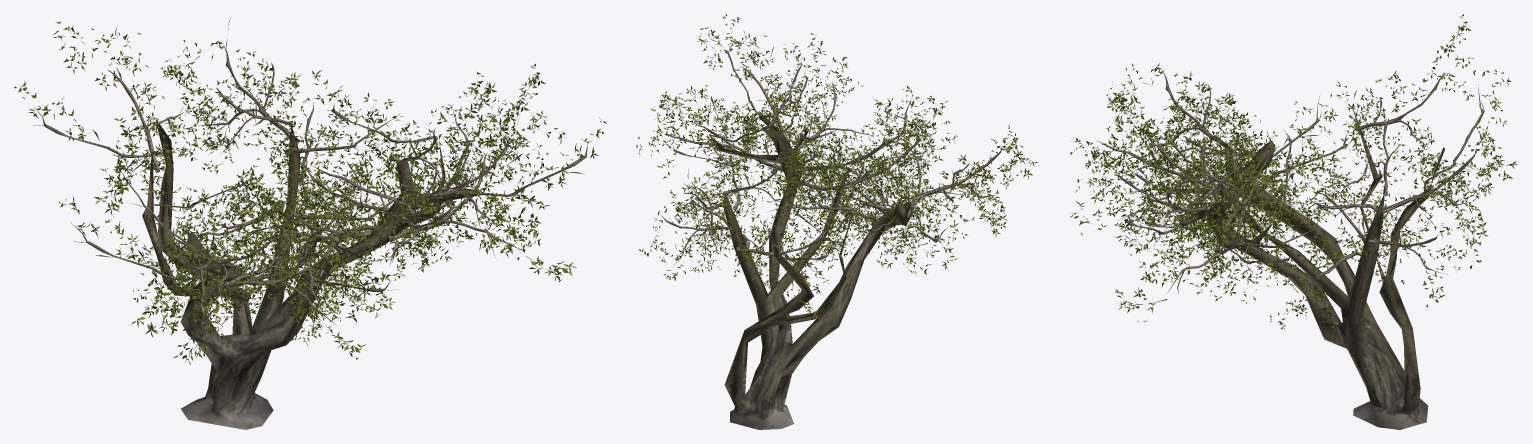
File: tree_lod.glb
3 views of the same model, side by side, from view 1: azimuth 30°, elevation 25°; view 2: azimuth 150°, elevation 25°; view 3: azimuth 270°, elevation 25° (orthographic). The views are drawn at different scales.
Visible parts, largest first — view 1: island_tree_02_LOD0; view 2: island_tree_02_LOD0; view 3: island_tree_02_LOD0.
Part boxes in pixels (left/top/right/bottom): island_tree_02_LOD0: left=14, top=17, right=607, bottom=429; island_tree_02_LOD0: left=636, top=14, right=1037, bottom=429; island_tree_02_LOD0: left=1069, top=14, right=1517, bottom=429.
Size of the model in its own units: 3.83 by 3.41 by 4.06.
3 materials, 3 textured.
